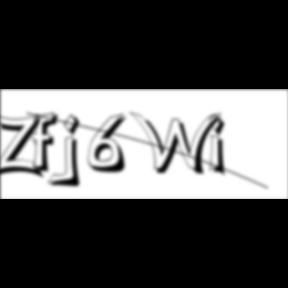6: (88, 112, 134, 176)
W: (129, 110, 227, 178)
Z: (0, 112, 48, 181)
f: (32, 111, 64, 175)
i: (209, 112, 233, 180)
j: (60, 113, 88, 191)
